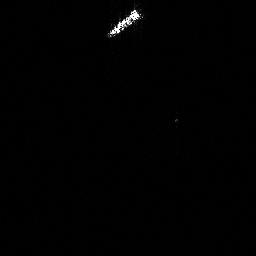ship: (110, 7, 140, 35)
